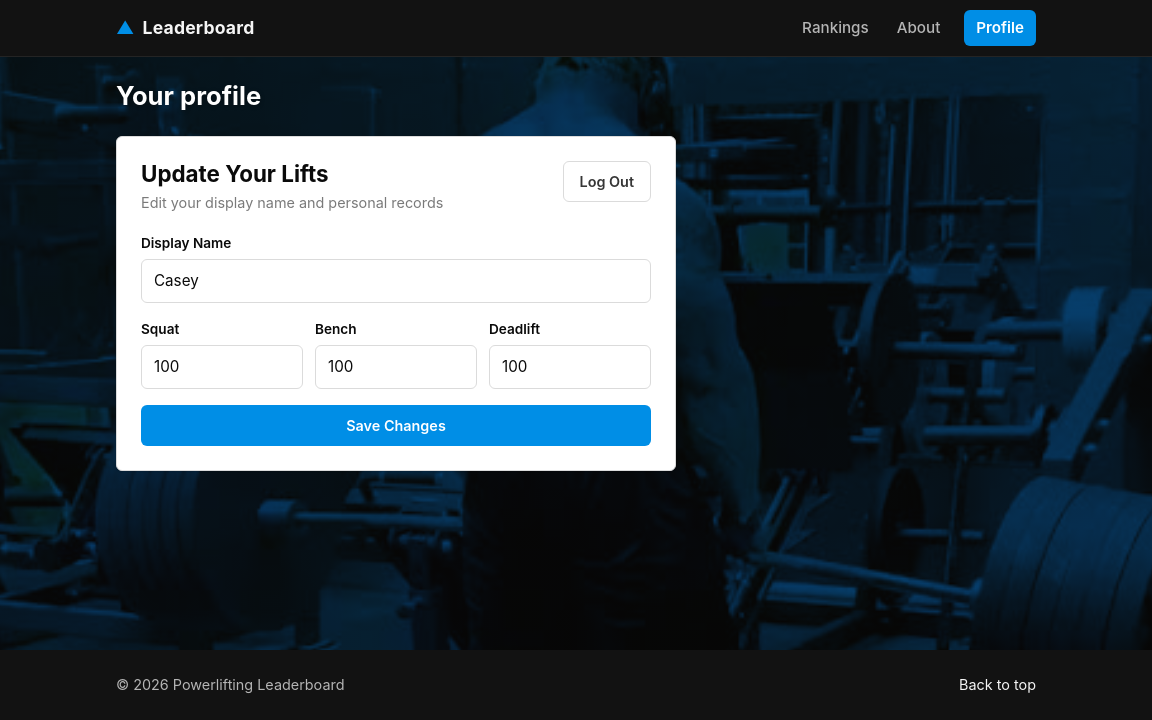
Test: routing › Log Out clears the token and returns to the home page
Check: the field labelled "Display Name" is shown, box [141,259,651,303]
Click the button "Log Out".
click(607, 181)  # box [562,161,651,202]
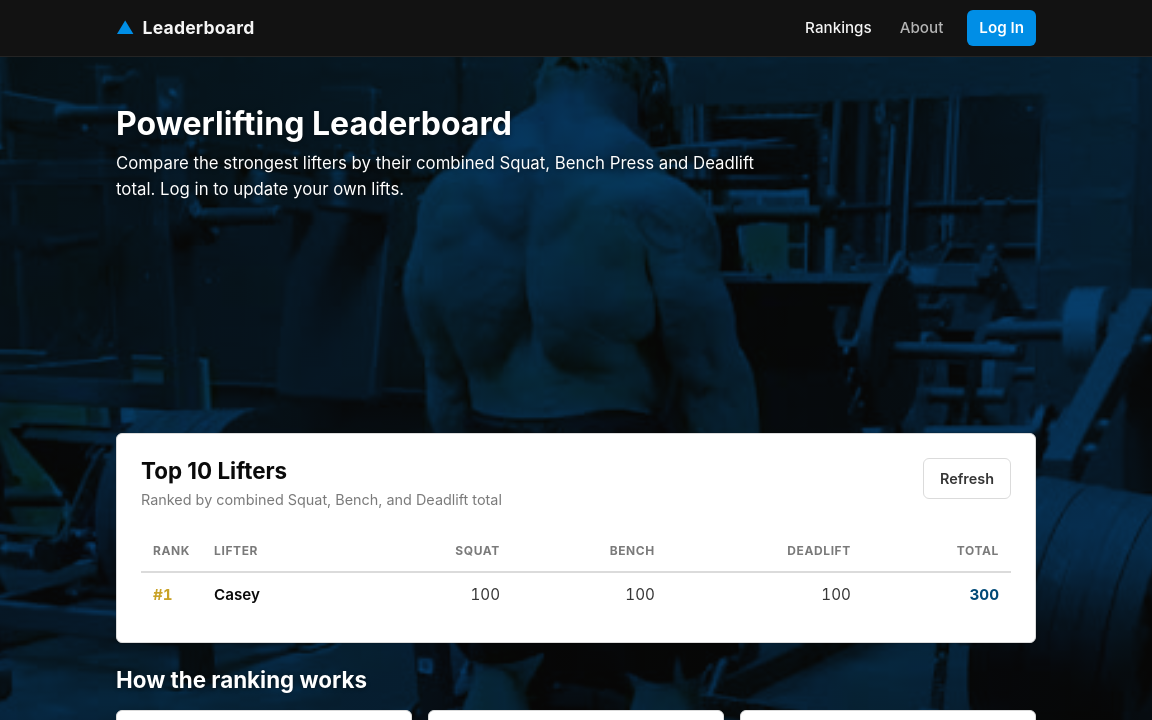
Check: the heading "Powerlifting Leaderboard" is shown, box [116,104,512,143]
Check: the link "Log In" is shown, box [967,10,1036,46]
